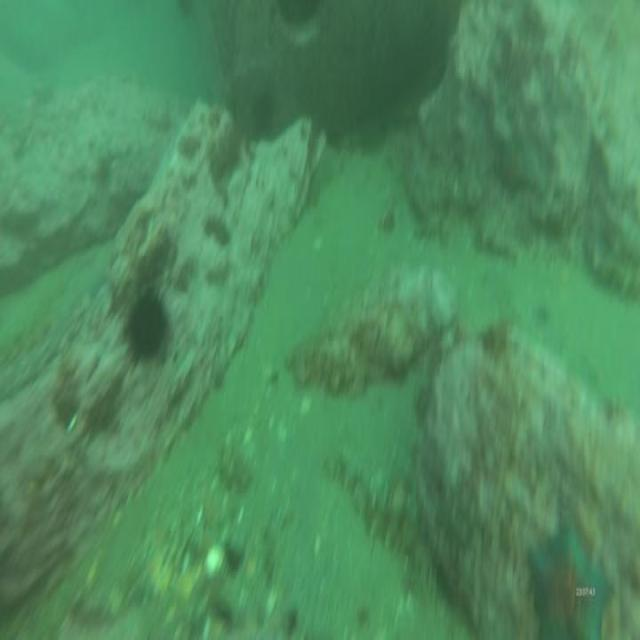echinus: (124, 287, 169, 363)
holothurian: (332, 449, 430, 597)
starfish: (526, 516, 616, 640), (493, 134, 537, 199)
